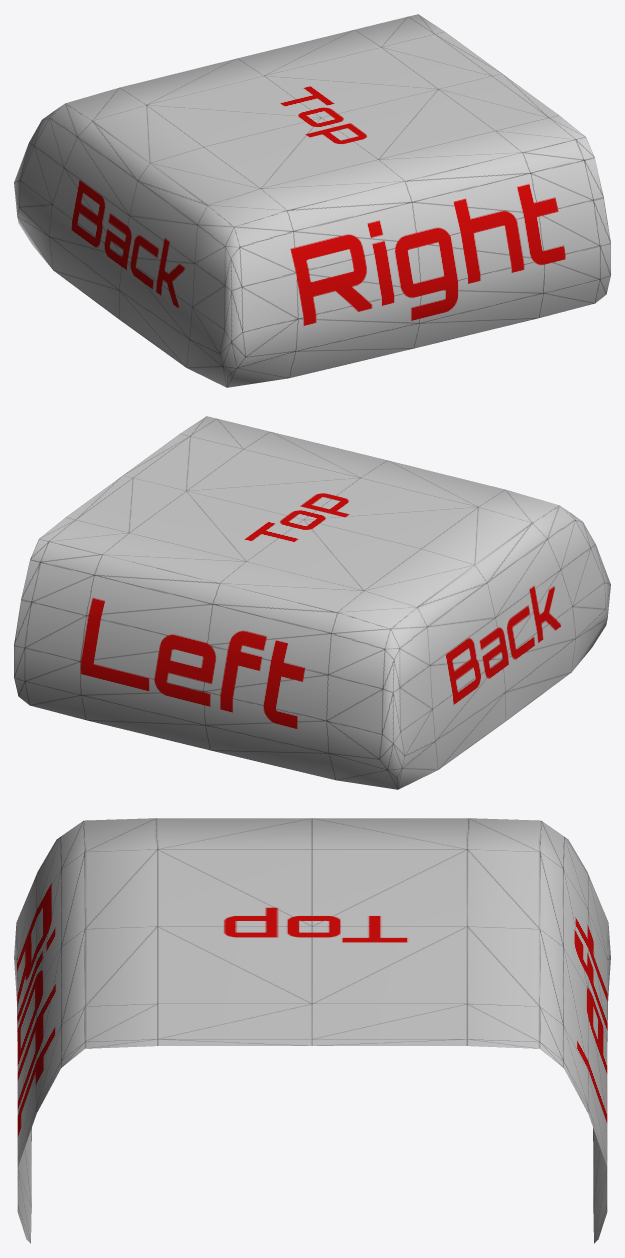
The model's file is ExplorerShellTarp.fbx.
3 views of the same model, one above another, from view 1: azimuth 30°, elevation 25°; view 2: azimuth 150°, elevation 25°; view 3: azimuth 270°, elevation 25° (orthographic). The views are drawn at different scales.
Parts seen in each view (by area): view 1: FinalTarp; view 2: FinalTarp; view 3: FinalTarp.
Boxes of the visible parts, <box> form: FinalTarp: <box>14,14,610,387</box>; FinalTarp: <box>14,416,610,789</box>; FinalTarp: <box>14,818,610,1243</box>.
Size of the model in its own units: 200 by 75.97 by 199.
1 material, 1 textured.
